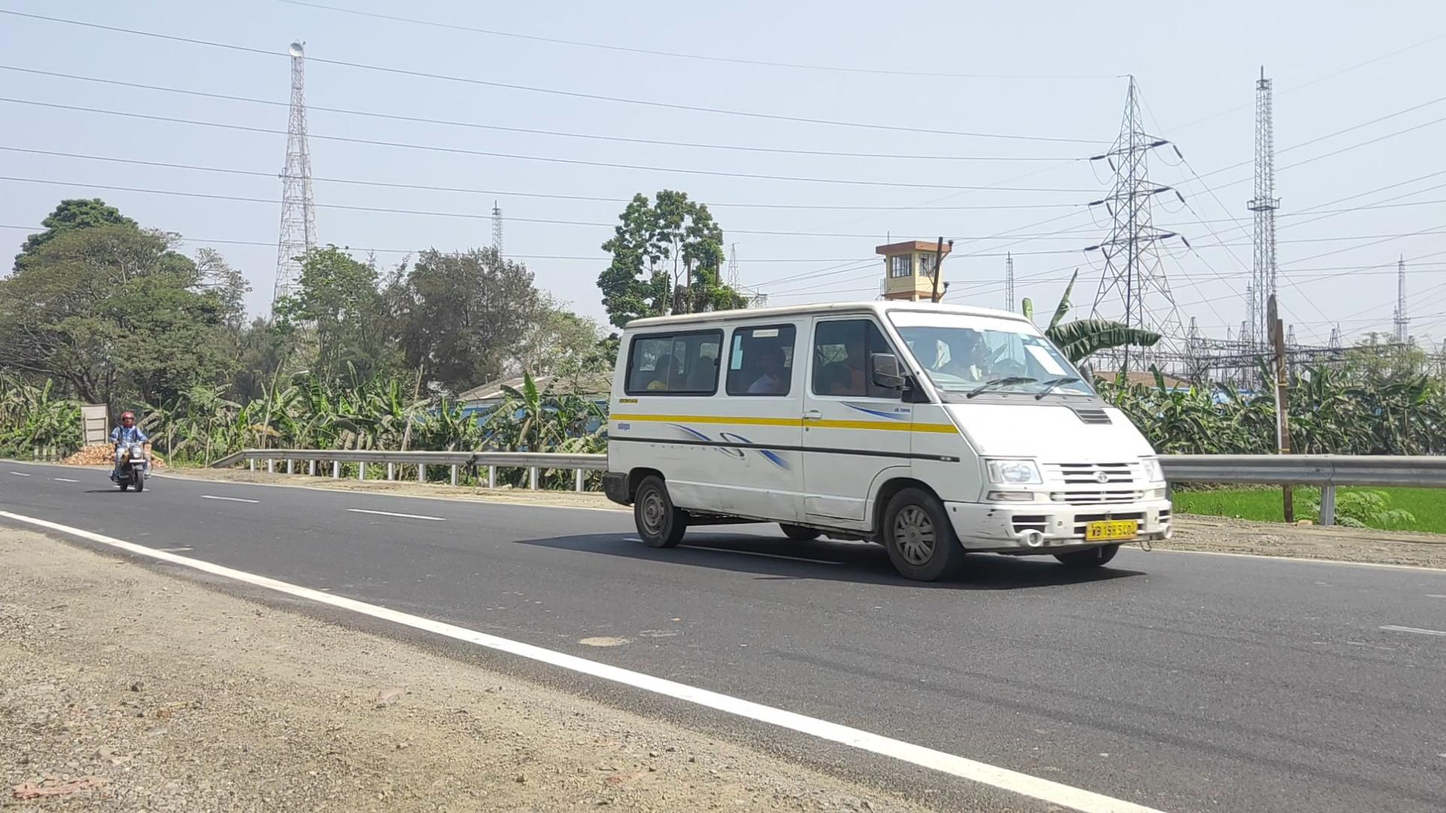bike: (108, 410, 152, 493)
van: (605, 300, 1171, 581)
